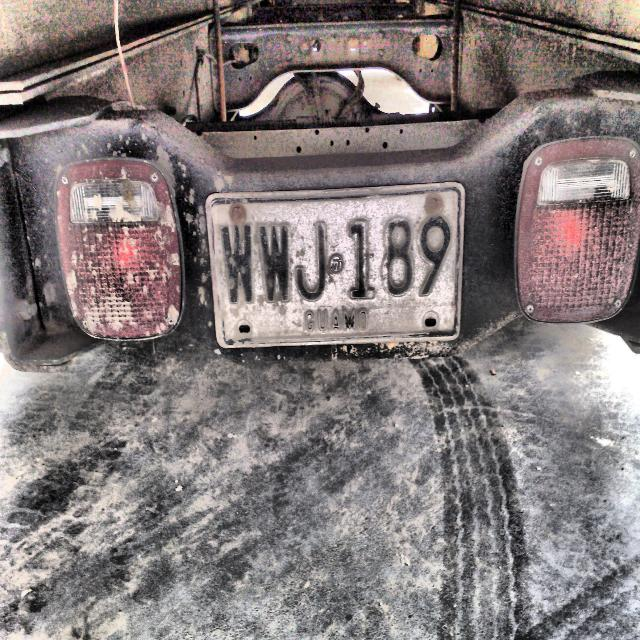plate: (206, 183, 465, 349)
